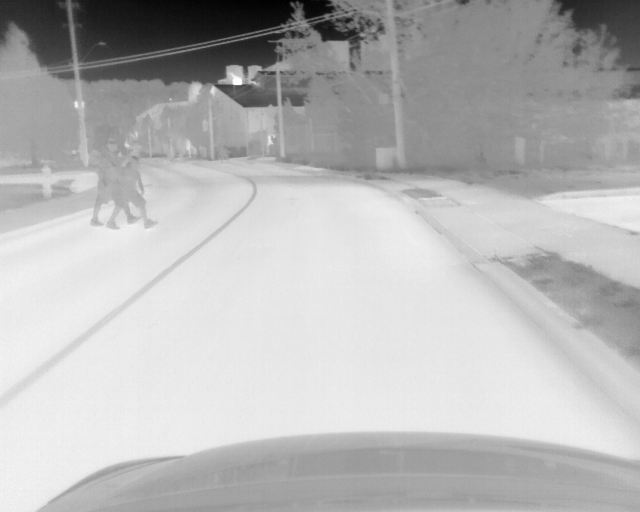people: (109, 140, 158, 230), (92, 138, 139, 229)
